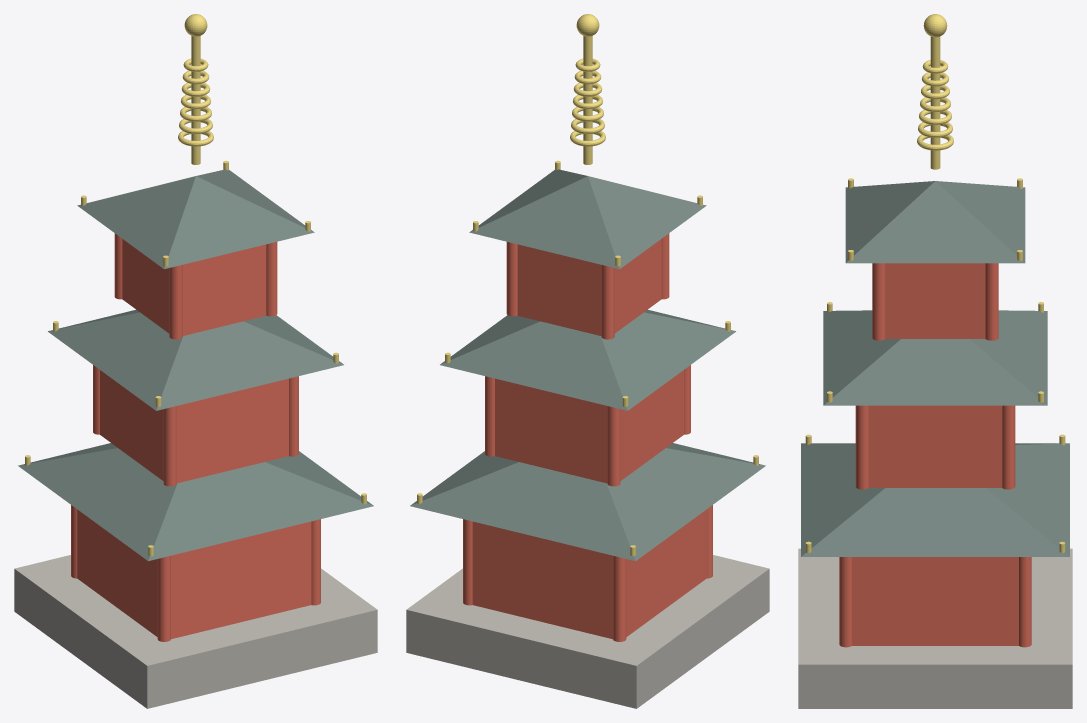
File: pagoda_01.glb
3 renders of one model, left to right at view 1: azimuth 30°, elevation 25°; view 2: azimuth 150°, elevation 25°; view 3: azimuth 270°, elevation 25°, orthographic. The views are drawn at different scales.
Parts seen in each view (by area): view 1: Cube, Cone, Cube.001, Cone.001, Cube.002, Cone.002, Cube.003, Cylinder, Cylinder.008, Cylinder.016, Cylinder.024, Cylinder.018 (+3 smaller); view 2: Cube, Cone, Cube.001, Cone.001, Cube.002, Cone.002, Cube.003, Cylinder.001, Cylinder.009, Cylinder.017, Cylinder.024, Cylinder.019 (+3 smaller); view 3: Cube, Cone, Cone.001, Cube.001, Cone.002, Cube.002, Cube.003, Cylinder.010, Cylinder.011, Cylinder.002, Cylinder.003, Cylinder.018 (+3 smaller).
Boxes of the visible parts, box(x1,y1,x2,y2) form: Cube: box(14, 555, 377, 708); Cone: box(18, 443, 373, 561); Cube.001: box(77, 509, 311, 639); Cone.001: box(48, 309, 343, 410); Cube.002: box(100, 370, 288, 483); Cone.002: box(77, 169, 314, 269); Cube.003: box(122, 239, 266, 335); Cylinder: box(157, 556, 170, 641); Cylinder.008: box(163, 406, 176, 486); Cylinder.016: box(169, 265, 182, 339); Cylinder.024: box(191, 36, 200, 164); Cylinder.018: box(266, 242, 277, 316); Cube: box(406, 555, 769, 708); Cone: box(410, 443, 765, 561); Cube.001: box(472, 509, 706, 639); Cone.001: box(440, 309, 735, 410); Cube.002: box(495, 370, 683, 483); Cone.002: box(469, 169, 706, 269); Cube.003: box(517, 239, 661, 335); Cylinder.001: box(613, 556, 626, 641); Cylinder.009: box(607, 406, 620, 486); Cylinder.017: box(601, 265, 614, 339); Cylinder.024: box(583, 36, 592, 164); Cylinder.019: box(506, 242, 517, 316); Cube: box(798, 548, 1072, 708); Cone: box(801, 443, 1069, 556); Cone.001: box(823, 310, 1047, 405); Cube.001: box(852, 557, 1018, 645); Cone.002: box(845, 181, 1025, 263); Cube.002: box(868, 405, 1002, 487); Cube.003: box(885, 263, 985, 338); Cylinder.010: box(855, 405, 868, 489); Cylinder.011: box(1002, 405, 1015, 489); Cylinder.002: box(839, 557, 851, 647); Cylinder.003: box(1019, 557, 1031, 647); Cylinder.018: box(872, 263, 885, 340).
Bounding box in the file's own units: 5.6 × 14.34 × 5.6.
